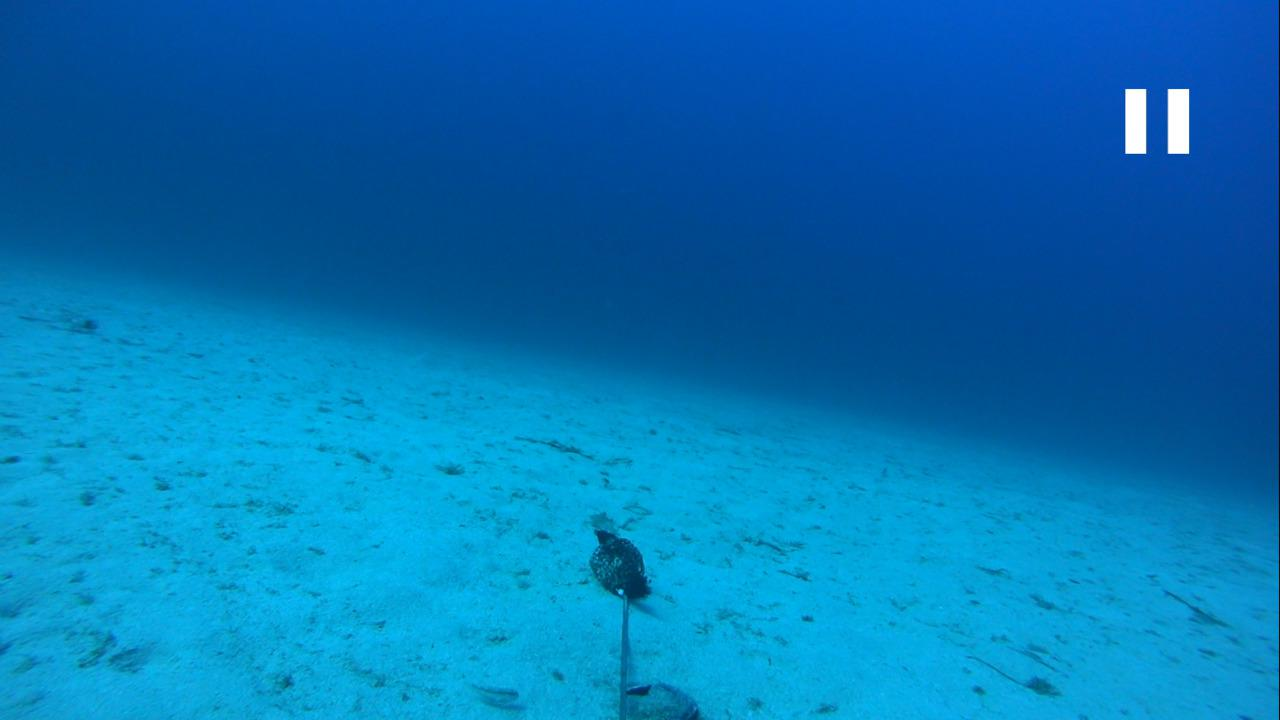dactylopterus: (9, 294, 96, 338)
